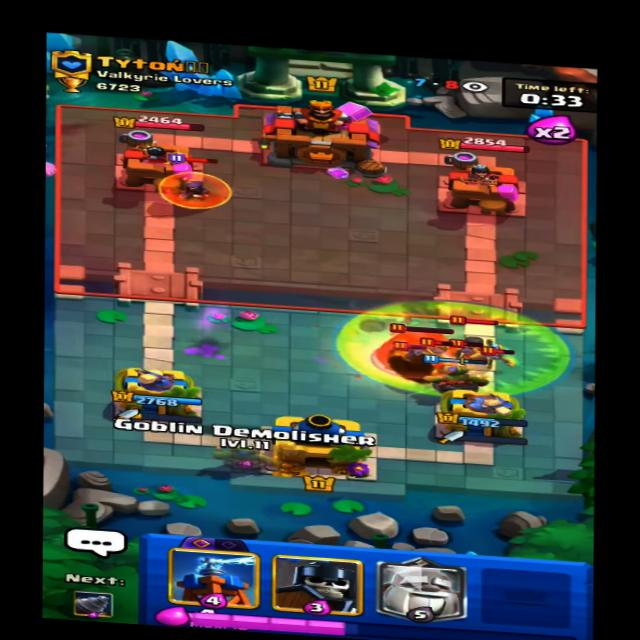Bat: (475, 344, 523, 366), (394, 341, 438, 361), (452, 342, 484, 357)
Evowizard: (158, 153, 234, 211)
Giant: (368, 317, 473, 371)
Nightwitch: (449, 310, 499, 367)
